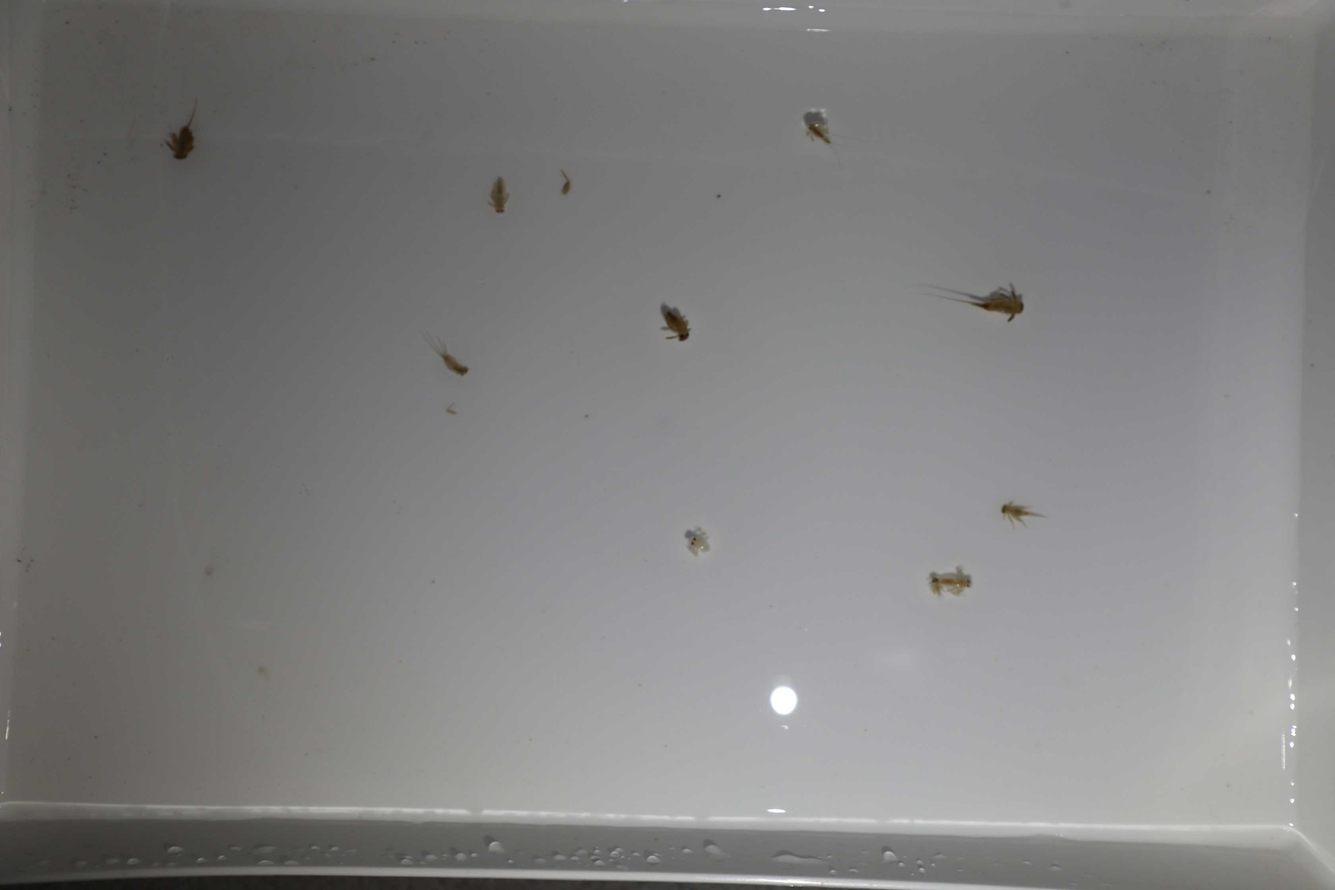Mayfly: (905, 272, 1029, 327), (159, 91, 206, 168), (994, 489, 1049, 538), (421, 335, 472, 380), (798, 109, 836, 159), (651, 304, 697, 345), (921, 570, 978, 598), (679, 523, 710, 556), (487, 172, 509, 215)
